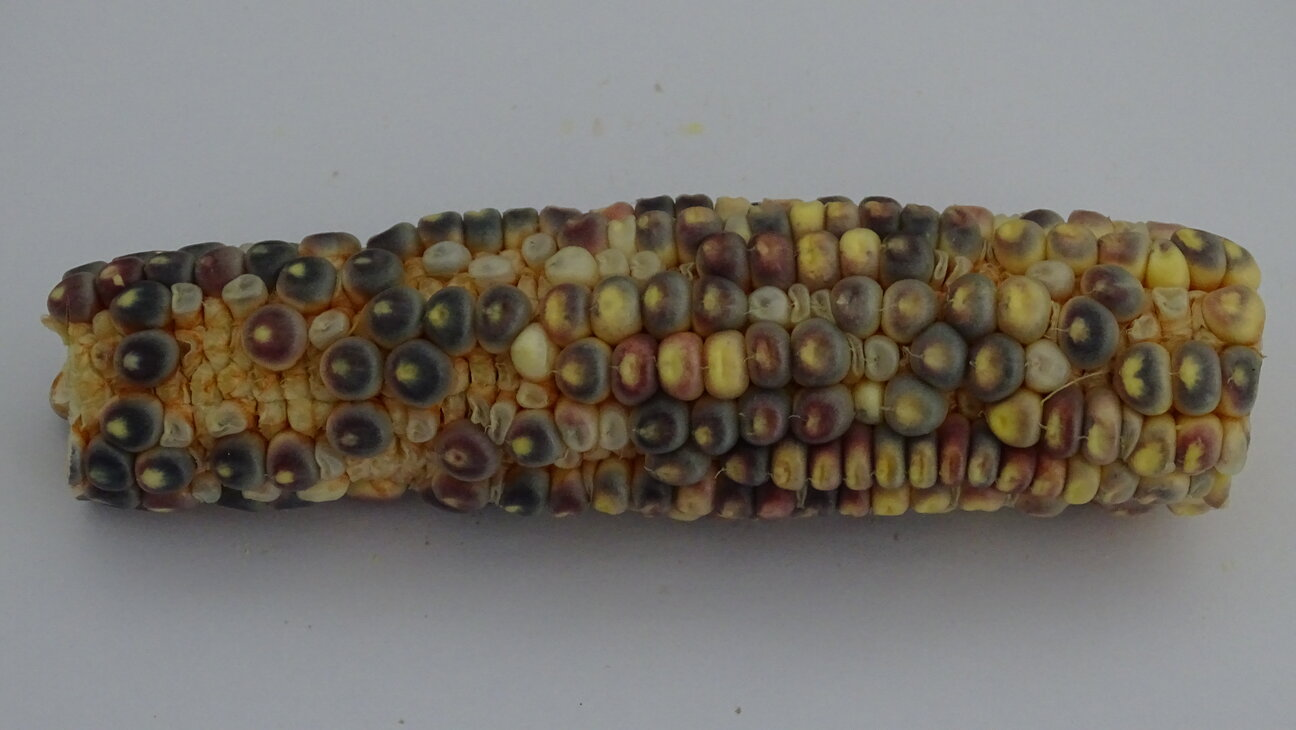ear: (38, 192, 1271, 527)
